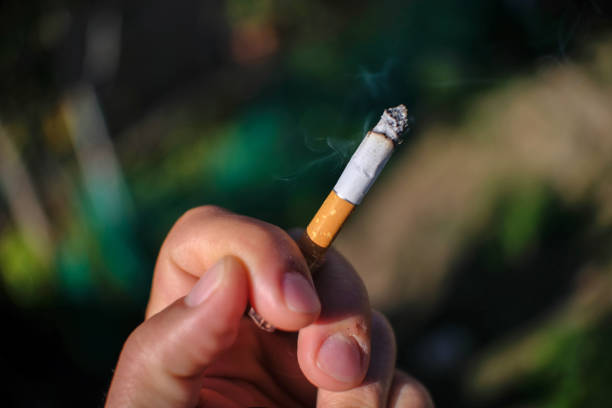cigarette: (294, 104, 410, 266)
